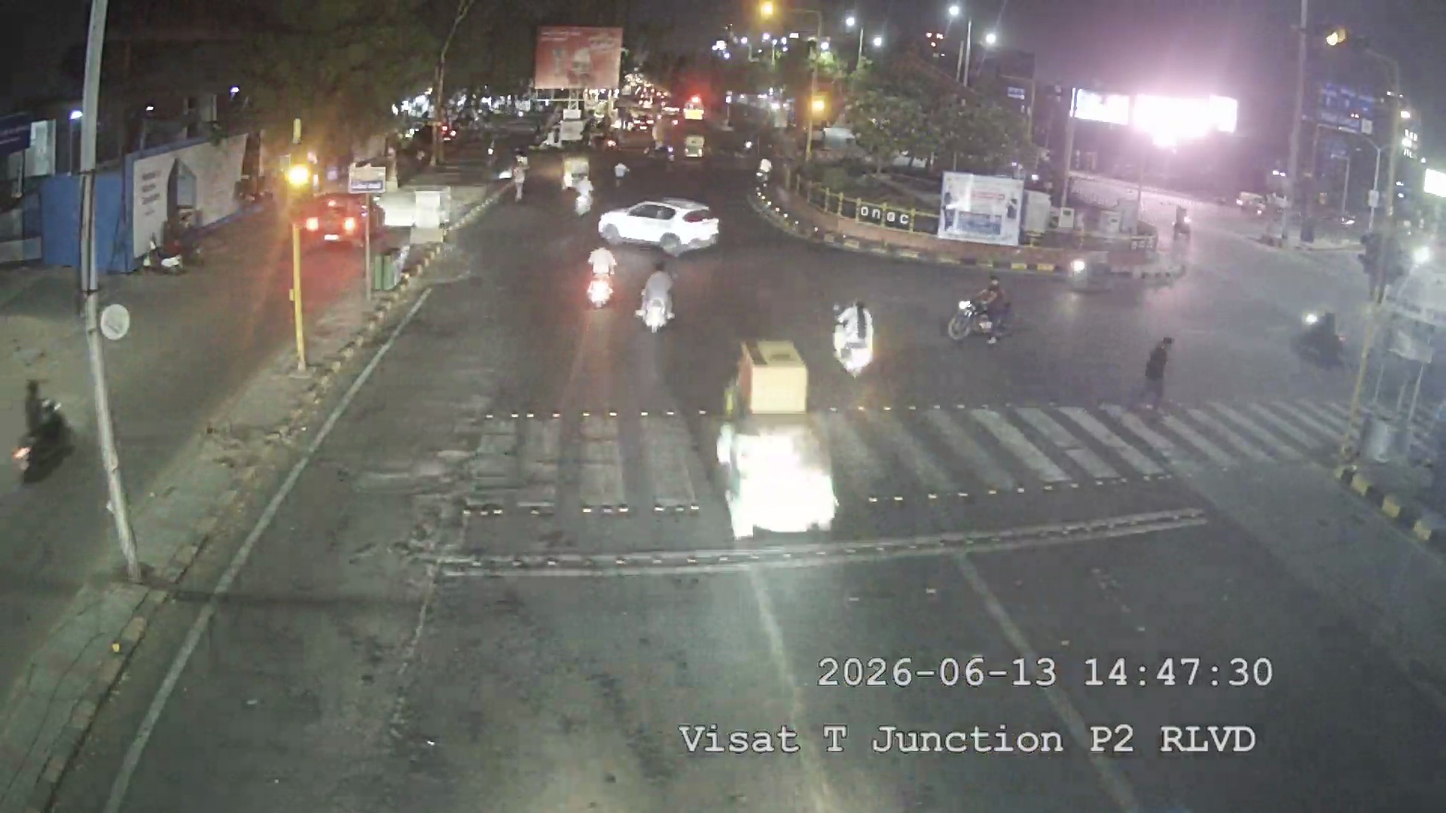auto_rickshaw: (712, 414, 840, 532), (726, 332, 812, 417), (558, 148, 595, 193)
car: (596, 192, 723, 252)
pedestrian: (508, 151, 532, 207)
two_wheeler: (6, 370, 78, 487), (825, 291, 887, 379), (943, 275, 1018, 346), (1290, 292, 1348, 364), (633, 260, 683, 336), (578, 240, 622, 314), (1062, 245, 1120, 301), (565, 166, 595, 218)
